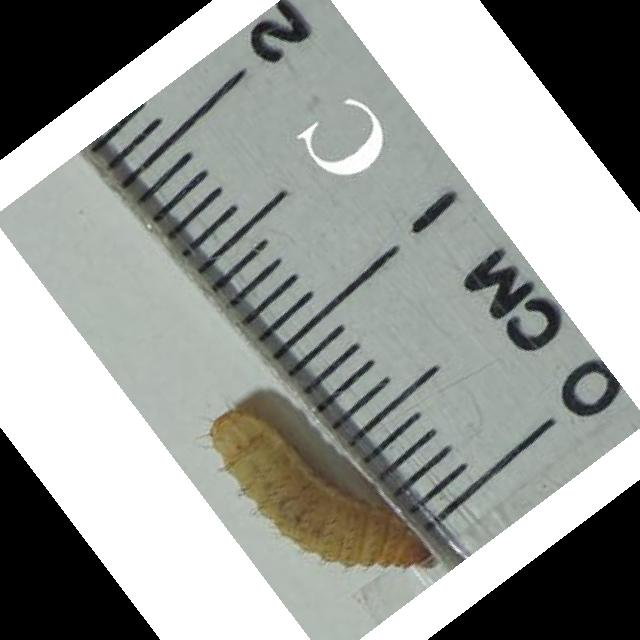Maggot: (207, 409, 432, 567)
